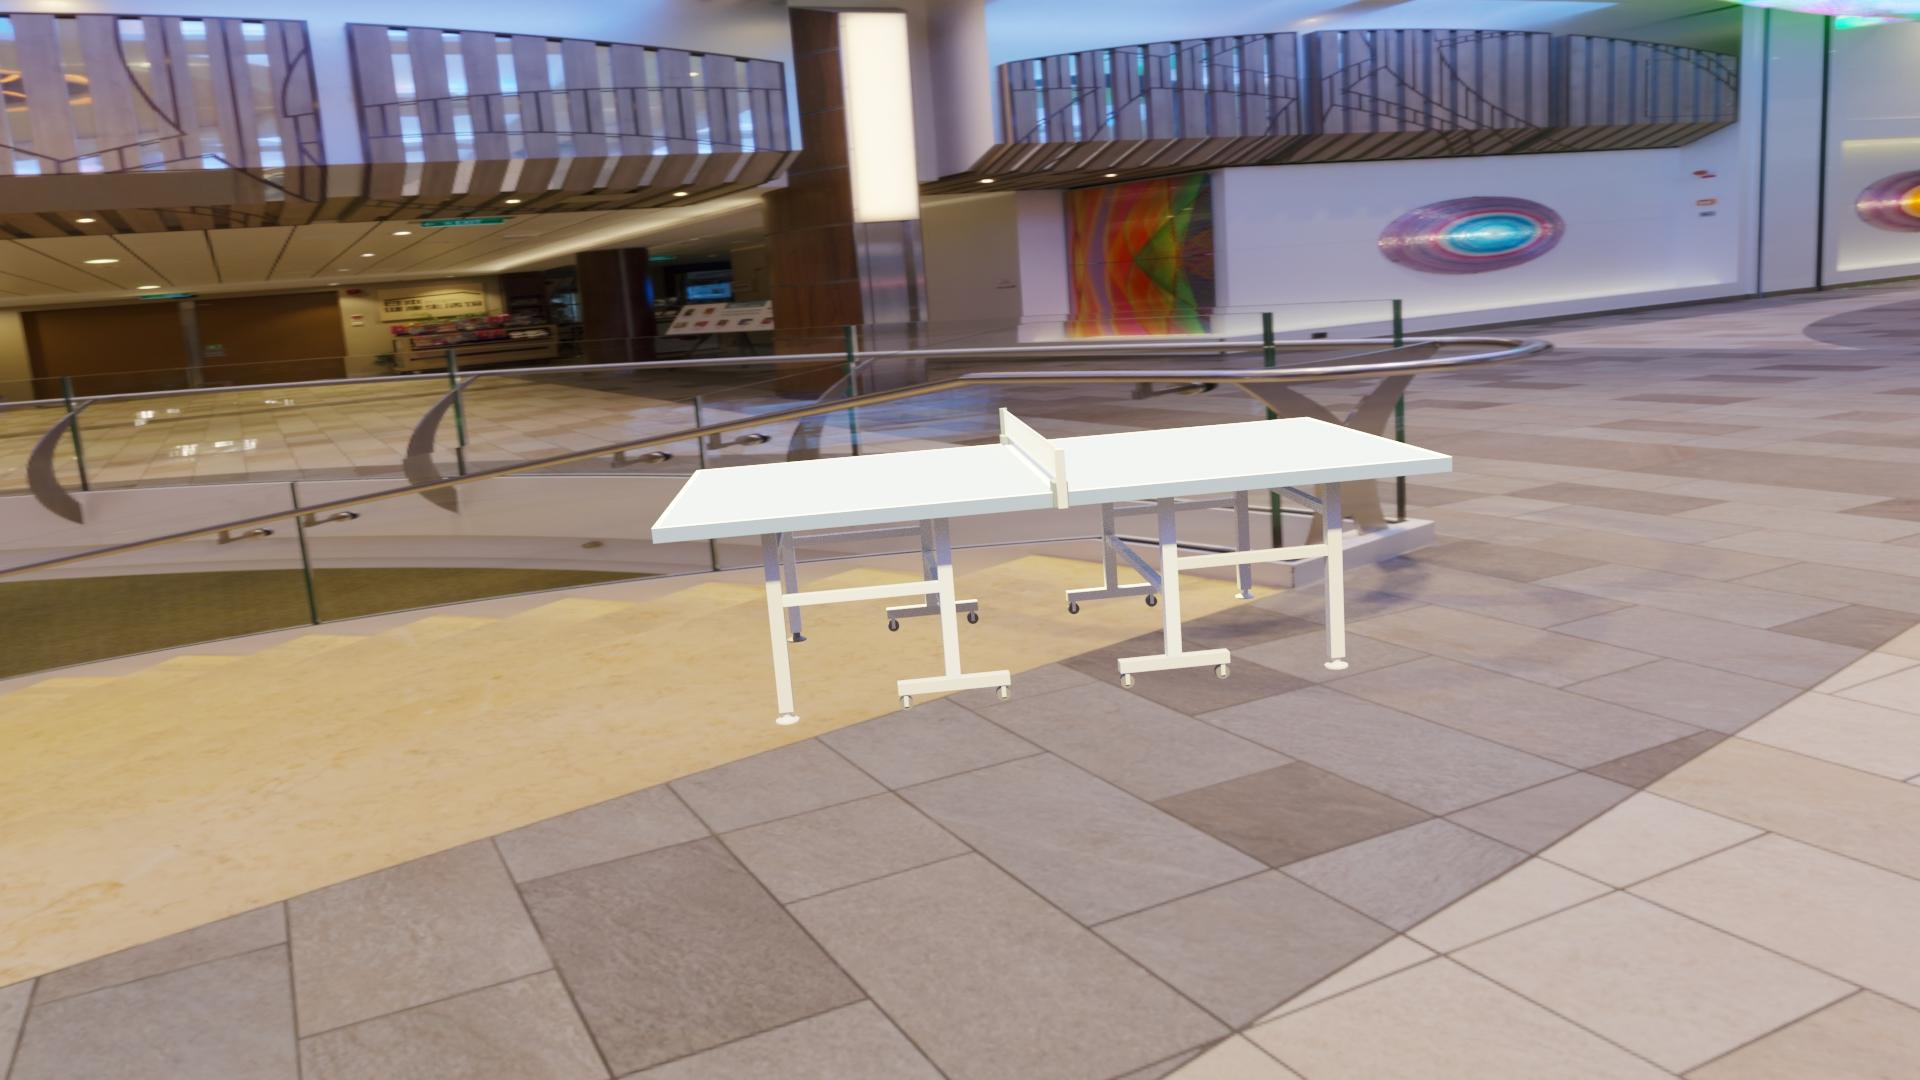table: (658, 418, 1444, 527)
